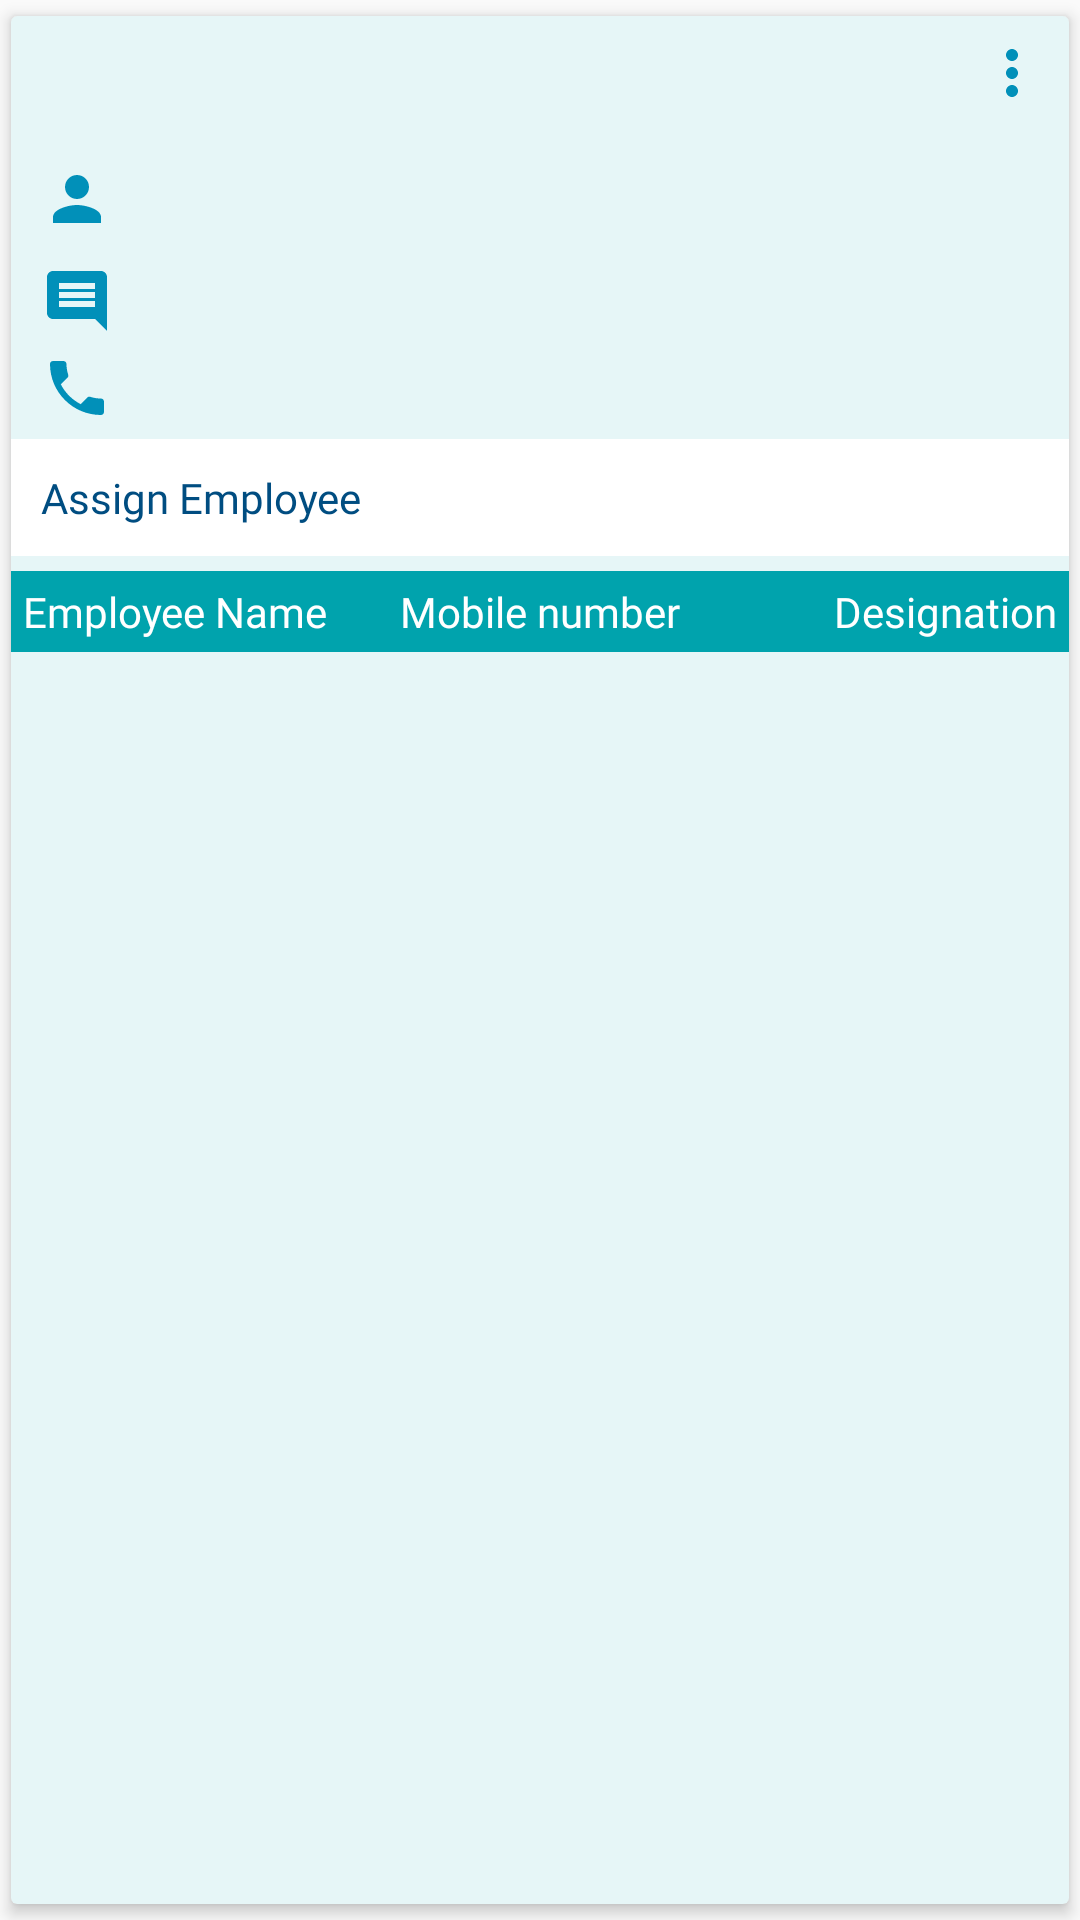

Where to tap for icons on this 1080w x 1920h app screen, as (x,y):
menu: (1012,73)
